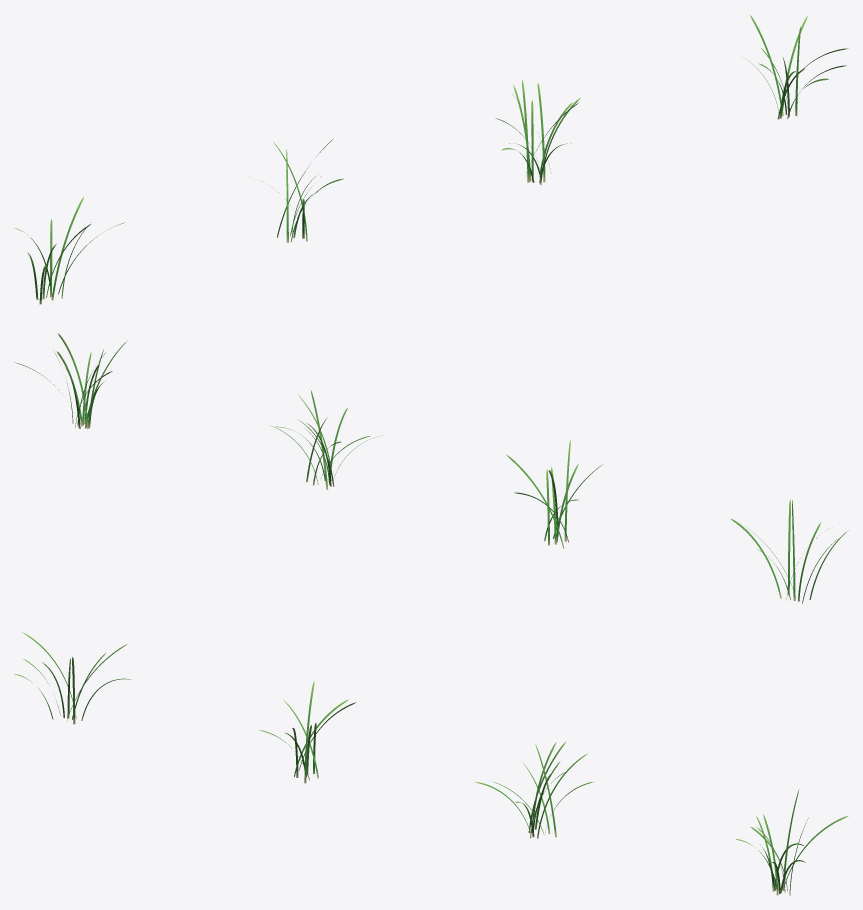
The picture shows the model from 3 angles, top to bottom: view 1: azimuth 30°, elevation 25°; view 2: azimuth 150°, elevation 25°; view 3: azimuth 330°, elevation 25°; orthographic projection. The views are drawn at different scales.
Parts seen in each view (by area): view 1: vallisneria.002, vallisneria.003, vallisneria, vallisneria.001; view 2: vallisneria.001, vallisneria.003, vallisneria, vallisneria.002; view 3: vallisneria.002, vallisneria.003, vallisneria.001, vallisneria.
Part boxes in pixels (x1=…): vallisneria.002: x1=495, y1=79, x2=580, y2=184; vallisneria.003: x1=741, y1=15, x2=848, y2=120; vallisneria: x1=14, y1=197, x2=125, y2=304; vallisneria.001: x1=261, y1=138, x2=343, y2=242; vallisneria.001: x1=506, y1=440, x2=602, y2=548; vallisneria.003: x1=15, y1=333, x2=127, y2=429; vallisneria: x1=730, y1=499, x2=848, y2=603; vallisneria.002: x1=269, y1=390, x2=386, y2=489; vallisneria.002: x1=475, y1=741, x2=593, y2=838; vallisneria.003: x1=735, y1=789, x2=848, y2=895; vallisneria.001: x1=259, y1=681, x2=356, y2=783; vallisneria: x1=14, y1=632, x2=132, y2=724.
Bounding box in the file's own units: 10.05 × 1.02 × 1.26.
Materials: 1 (1 with a texture image).
